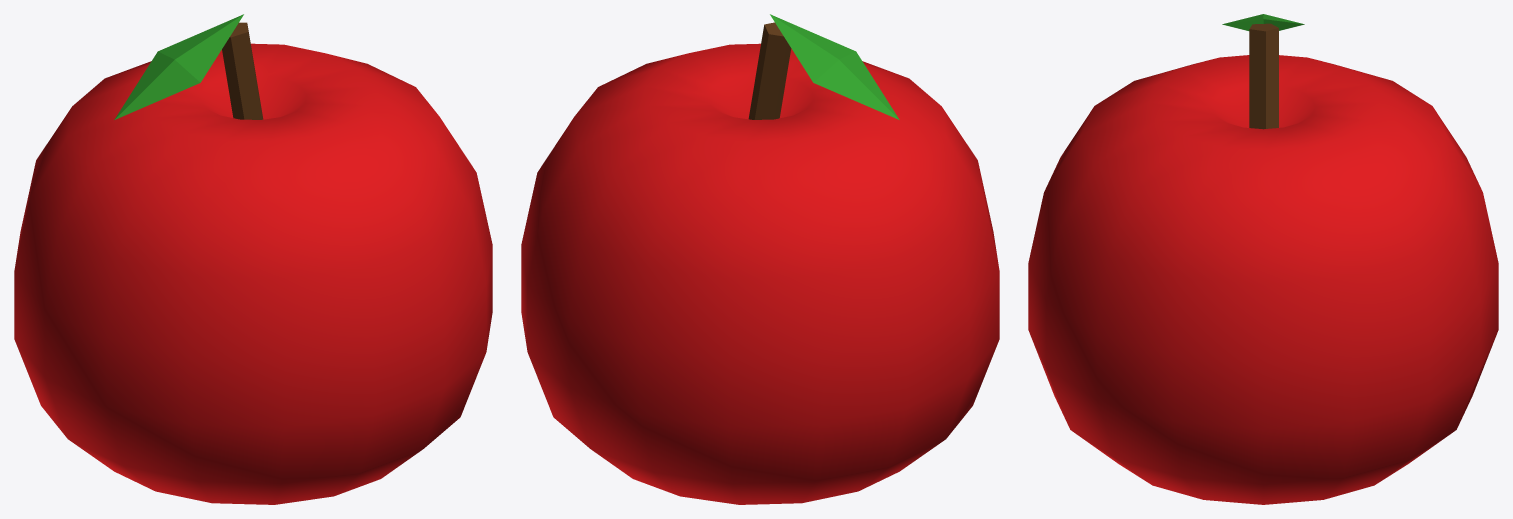
Rendered from Apple.fbx.
The picture shows the model from 3 angles, left to right: view 1: azimuth 30°, elevation 25°; view 2: azimuth 150°, elevation 25°; view 3: azimuth 270°, elevation 25°; orthographic projection. The views are drawn at different scales.
Parts seen in each view (by area): view 1: Apple; view 2: Apple; view 3: Apple.
Boxes of the visible parts, x1=… form: Apple: x1=14, y1=14, x2=492, y2=504; Apple: x1=521, y1=14, x2=999, y2=504; Apple: x1=1028, y1=14, x2=1498, y2=504.
Size of the model in its own units: 0.09 by 0.0897 by 0.09.
